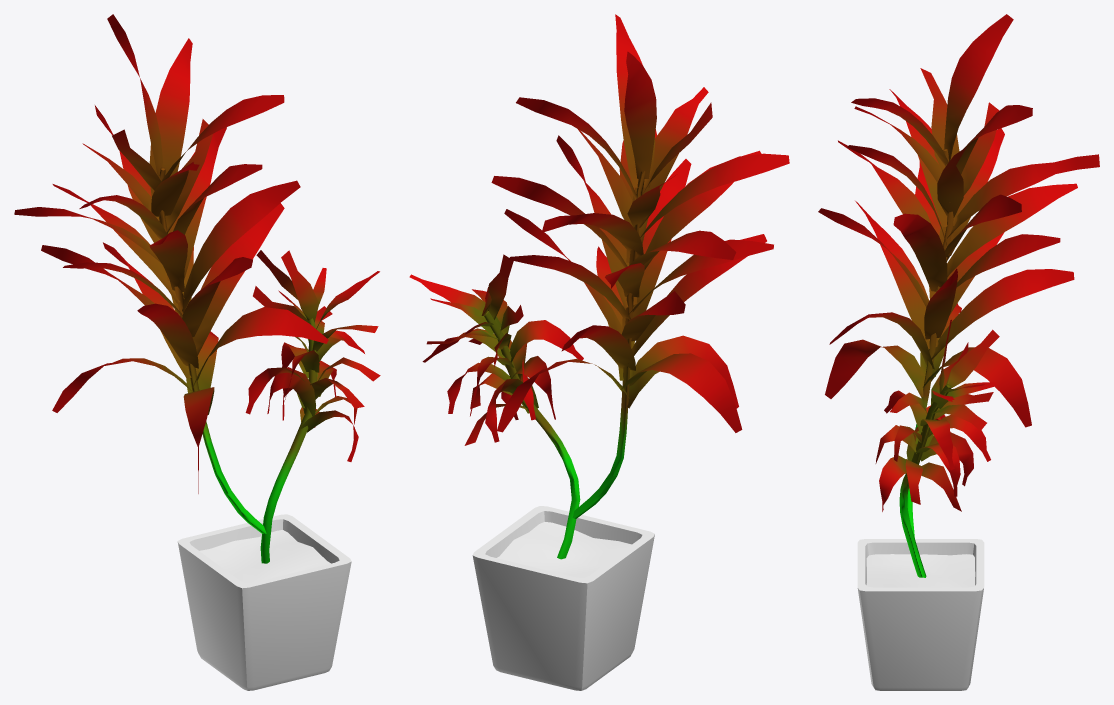
Rendered from PotPlant.fbx.
3 views of the same model, side by side, from view 1: azimuth 30°, elevation 25°; view 2: azimuth 150°, elevation 25°; view 3: azimuth 270°, elevation 25° (orthographic). The views are drawn at different scales.
Visible parts, largest first — view 1: PotPlant; view 2: PotPlant; view 3: PotPlant.
Part boxes in pixels (x1=…): PotPlant: x1=14, y1=14, x2=380, y2=690; PotPlant: x1=409, y1=14, x2=789, y2=690; PotPlant: x1=818, y1=14, x2=1099, y2=690.
Bounding box in the file's own units: 89.05 × 162 × 67.93.
